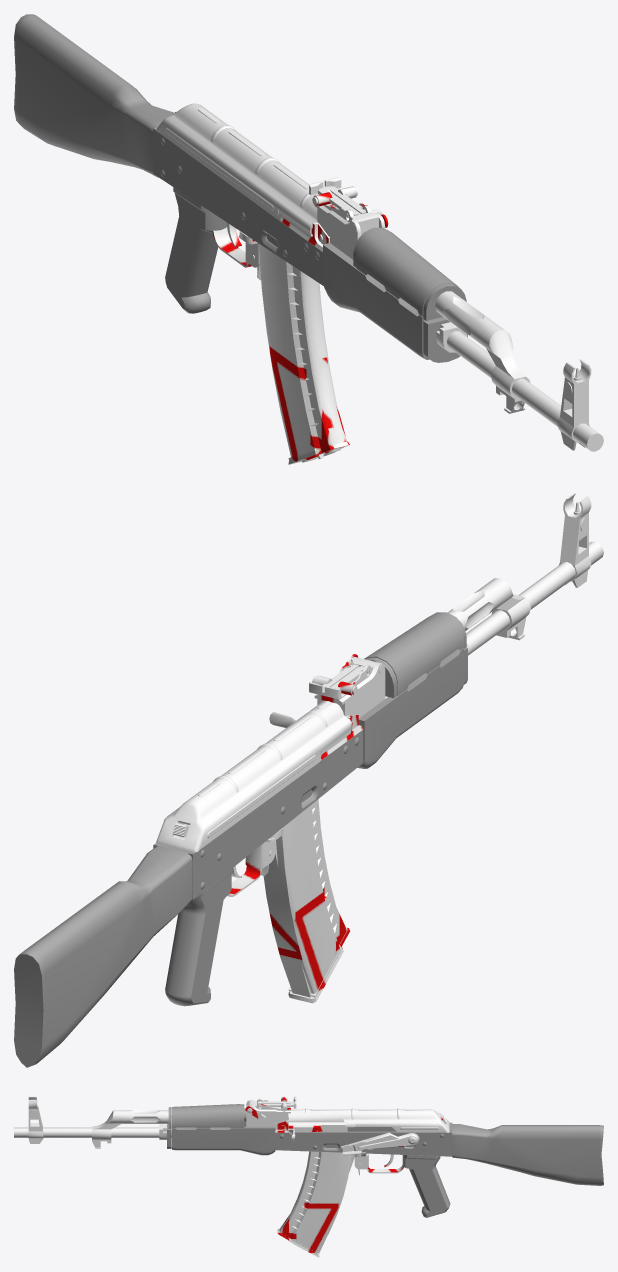
The picture shows the model from 3 angles, top to bottom: view 1: azimuth 30°, elevation 25°; view 2: azimuth 150°, elevation 25°; view 3: azimuth 270°, elevation 25°; orthographic projection. The views are drawn at different scales.
Parts seen in each view (by area): view 1: AK47_2, AK47_1; view 2: AK47_2, AK47_1; view 3: AK47_2, AK47_1.
Part boxes in pixels (x1,y1,x2,y2): AK47_2: (14, 14, 467, 362); AK47_1: (156, 103, 603, 464); AK47_2: (14, 612, 467, 1067); AK47_1: (156, 493, 603, 1003); AK47_2: (167, 1104, 603, 1217); AK47_1: (14, 1096, 449, 1257).
Bounding box in the file's own units: 7.65 × 28.65 × 98.23.
